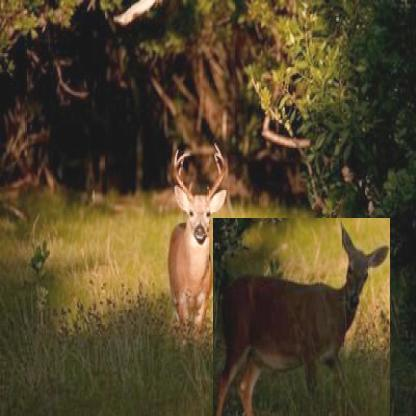Deer: (213, 218, 390, 416), (166, 141, 229, 368)
